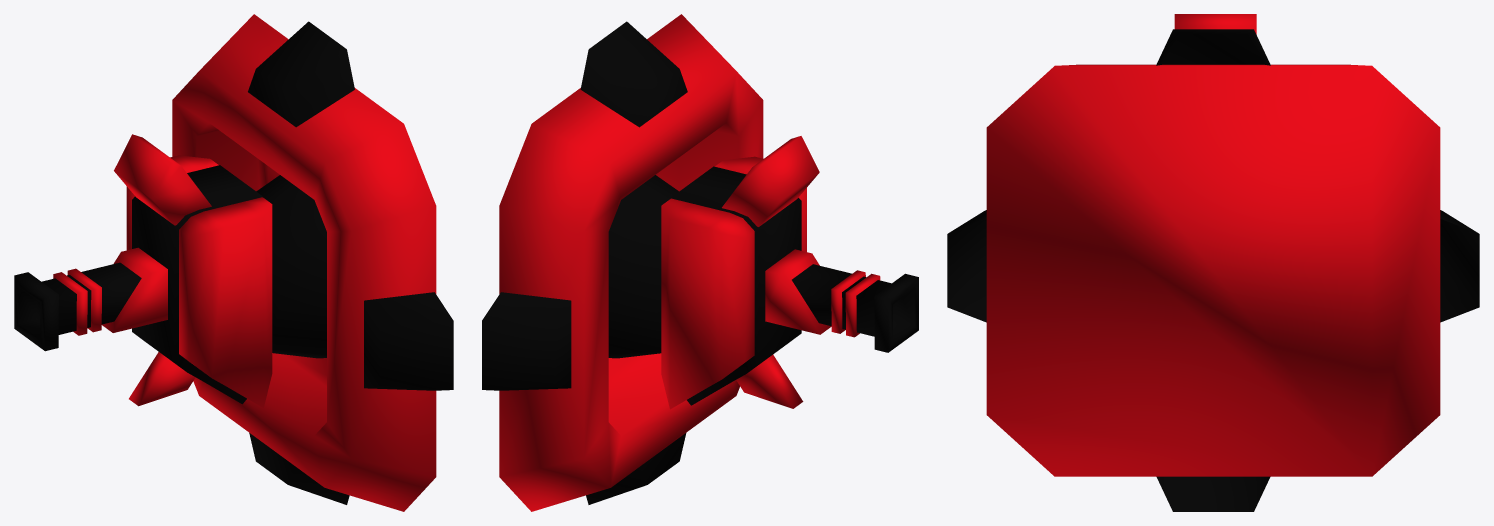
Rendered from TurretWall.fbx.
3 views of the same model, side by side, from view 1: azimuth 30°, elevation 25°; view 2: azimuth 150°, elevation 25°; view 3: azimuth 270°, elevation 25° (orthographic). The views are drawn at different scales.
Visible parts, largest first — view 1: Cube.008, Cube.009, Cube.006; view 2: Cube.008, Cube.009, Cube.006; view 3: Cube.008, Cube.009.
Boxes of the visible parts, x1=… form: Cube.008: x1=172, y1=14, x2=453, y2=511; Cube.009: x1=114, y1=134, x2=272, y2=407; Cube.006: x1=14, y1=247, x2=167, y2=351; Cube.008: x1=482, y1=14, x2=763, y2=511; Cube.009: x1=661, y1=136, x2=819, y2=409; Cube.006: x1=765, y1=249, x2=918, y2=352; Cube.008: x1=947, y1=29, x2=1479, y2=511; Cube.009: x1=1174, y1=14, x2=1256, y2=34.
Bounding box in the file's own units: 191 × 280 × 280.
